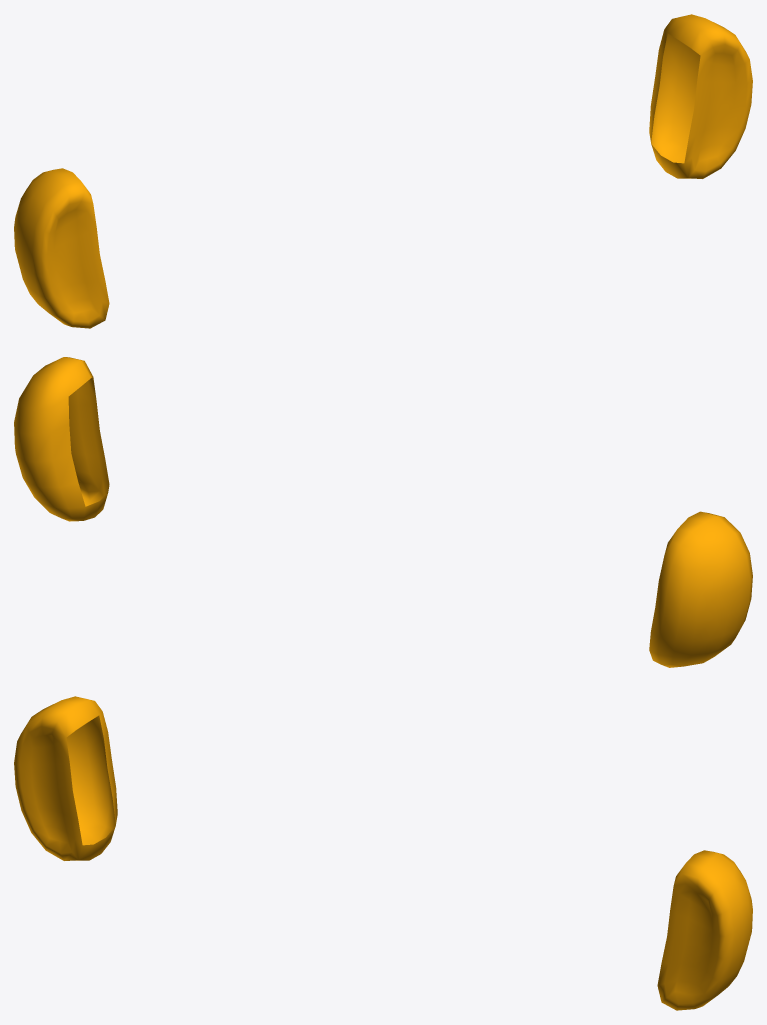
File: Ears_07.glb
3 views of the same model, one above another, from view 1: azimuth 30°, elevation 25°; view 2: azimuth 150°, elevation 25°; view 3: azimuth 330°, elevation 25° (orthographic).
Visible parts, largest first — view 1: Ears_07; view 2: Ears_07; view 3: Ears_07.
Part boxes in pixels (<box>): Ears_07: <box>14,14,752,328</box>; Ears_07: <box>14,357,752,667</box>; Ears_07: <box>14,696,752,1010</box>.
Bounding box in the file's own units: 0.6554 × 0.1295 × 0.076.
Materials: 1 (1 with a texture image).
